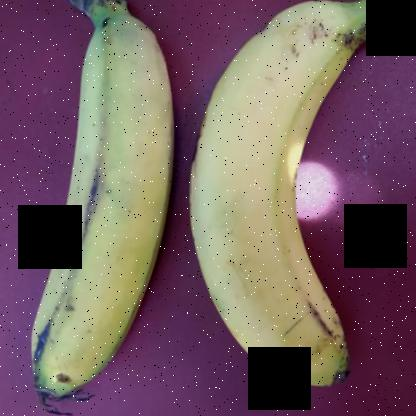freshripe: (182, 1, 366, 399)
ripe: (14, 1, 200, 394)
